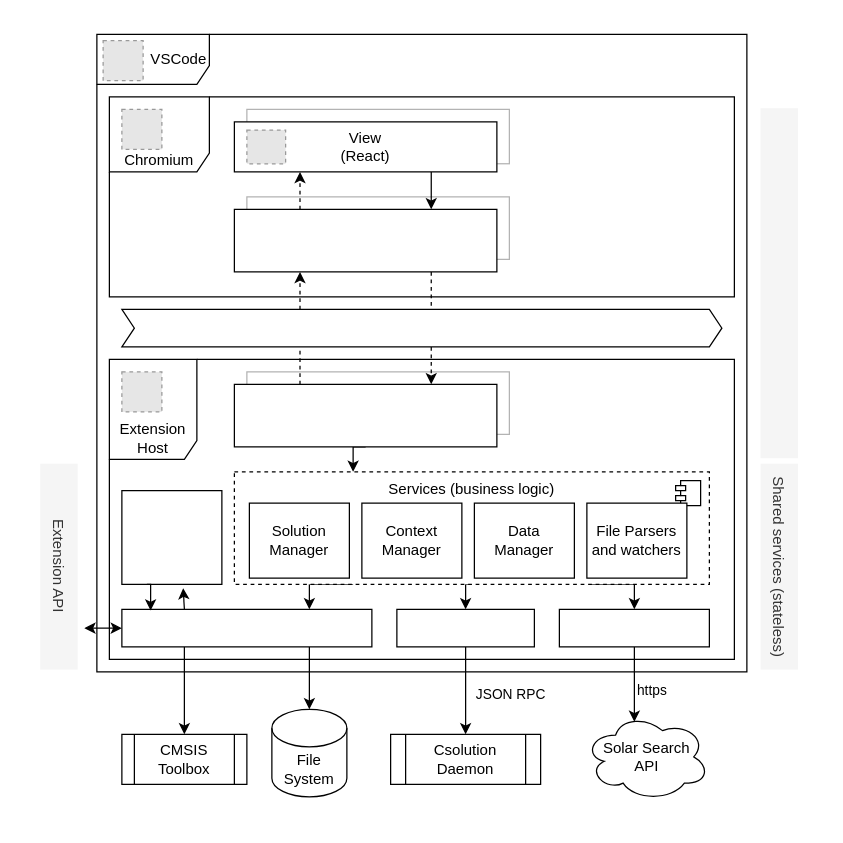
Some shapes in this 843 by 843 pixel diagram are drawn without their labels. Grey dashed boxes stand in for pictures. The shapes that lost their labels are listed below. From the top down, each one's centre as x and y in pixels, then its label:
the point at 365,240: ViewModel (state)
the point at 778,283: Multiple MVVM views (stateful)
the point at 421,327: VS Code RPC
the point at 365,415: Model (controller)
the point at 171,536: UI Views commands editors
the point at 246,627: VS Code API
the point at 465,627: Csolution Client
the point at 633,627: Solar Search Client
